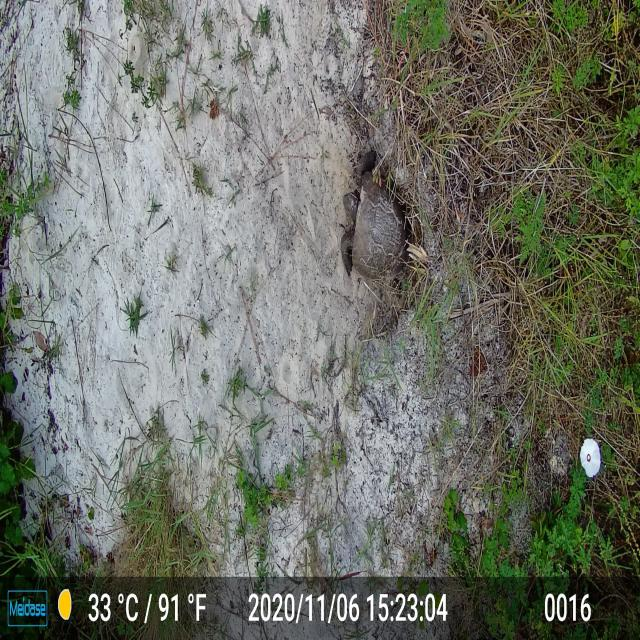tortoise: (338, 161, 412, 294)
